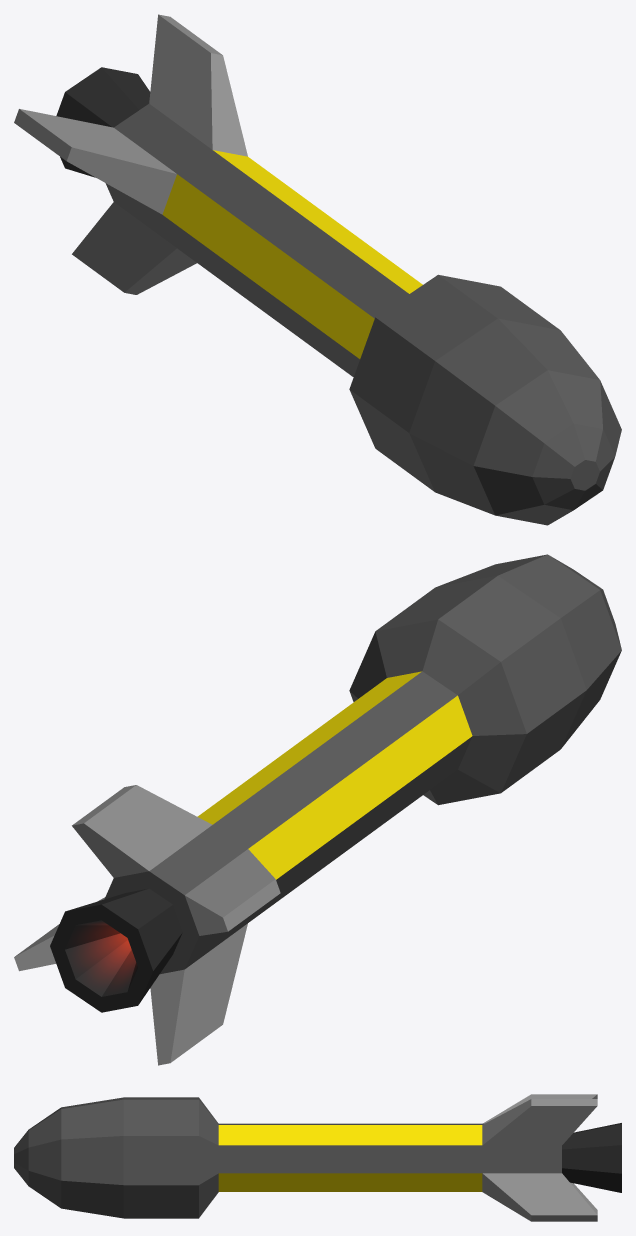
File: Rocket.fbx
The picture shows the model from 3 angles, top to bottom: view 1: azimuth 30°, elevation 25°; view 2: azimuth 150°, elevation 25°; view 3: azimuth 270°, elevation 25°; orthographic projection. The views are drawn at different scales.
Visible parts, largest first — view 1: Mesh; view 2: Mesh; view 3: Mesh.
Part boxes in pixels (left/top/right/bottom): Mesh: left=14, top=14, right=621, bottom=525; Mesh: left=14, top=554, right=621, bottom=1065; Mesh: left=14, top=1094, right=621, bottom=1221.
Size of the model in its own units: 20.93 by 20.93 by 81.91.
1 material, 1 textured.
